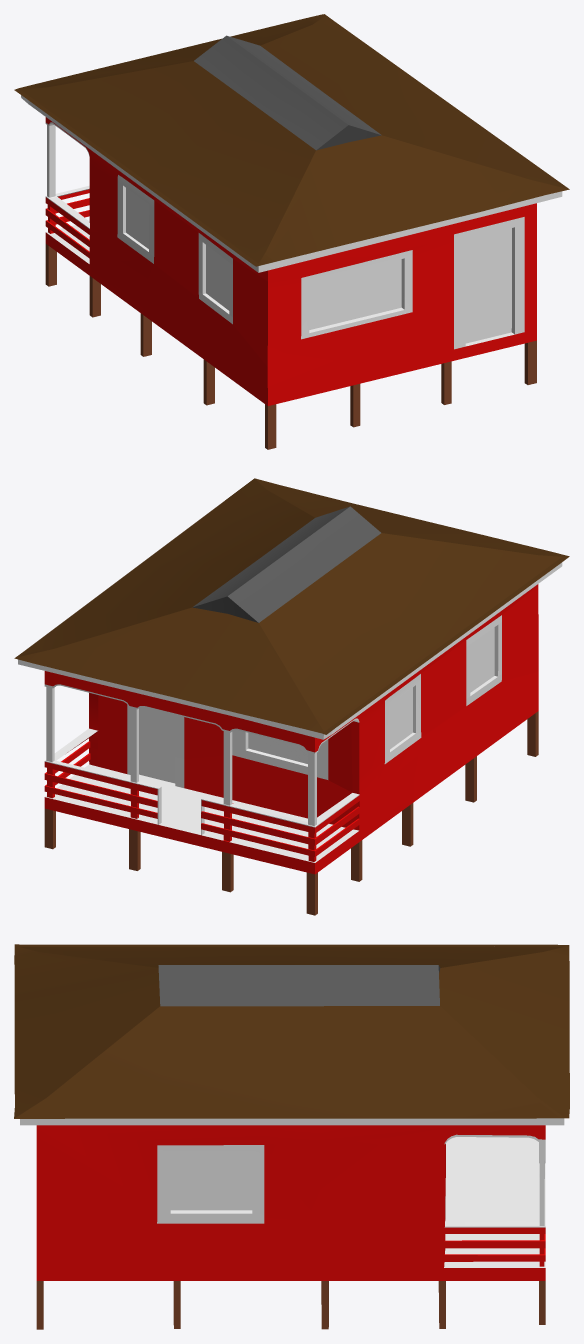
The model's file is Palafita3.fbx.
The picture shows the model from 3 angles, top to bottom: view 1: azimuth 30°, elevation 25°; view 2: azimuth 150°, elevation 25°; view 3: azimuth 270°, elevation 25°; orthographic projection. The views are drawn at different scales.
Parts seen in each view (by area): view 1: Cubo; view 2: Cubo; view 3: Cubo.
Part boxes in pixels (x1,y1,x2,y2): Cubo: (14,14,569,449); Cubo: (14,478,569,915); Cubo: (14,944,569,1329).
Size of the model in its own units: 460 by 355 by 616.
